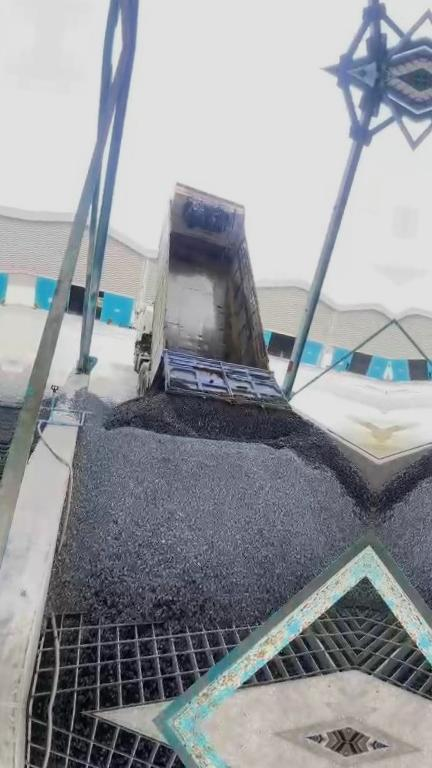gravel: (51, 412, 373, 625), (105, 395, 374, 508), (60, 387, 118, 421), (0, 401, 21, 483), (37, 397, 51, 430)
sand: (358, 422, 382, 458)
